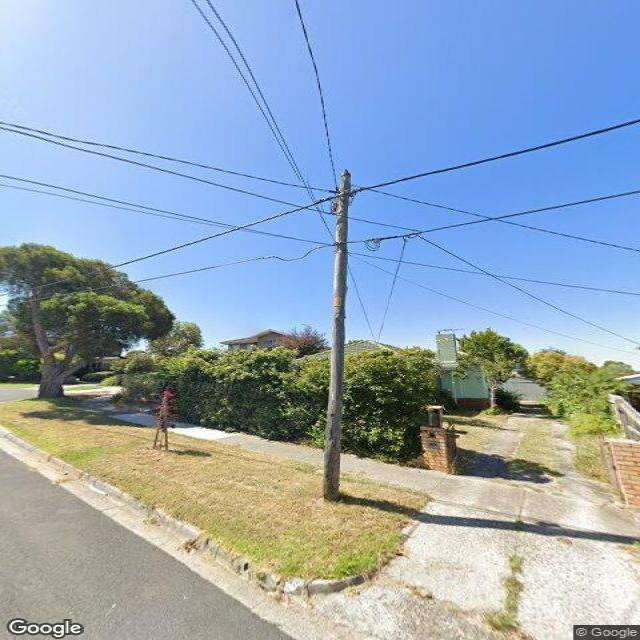timber-pole: (322, 168, 352, 502)
